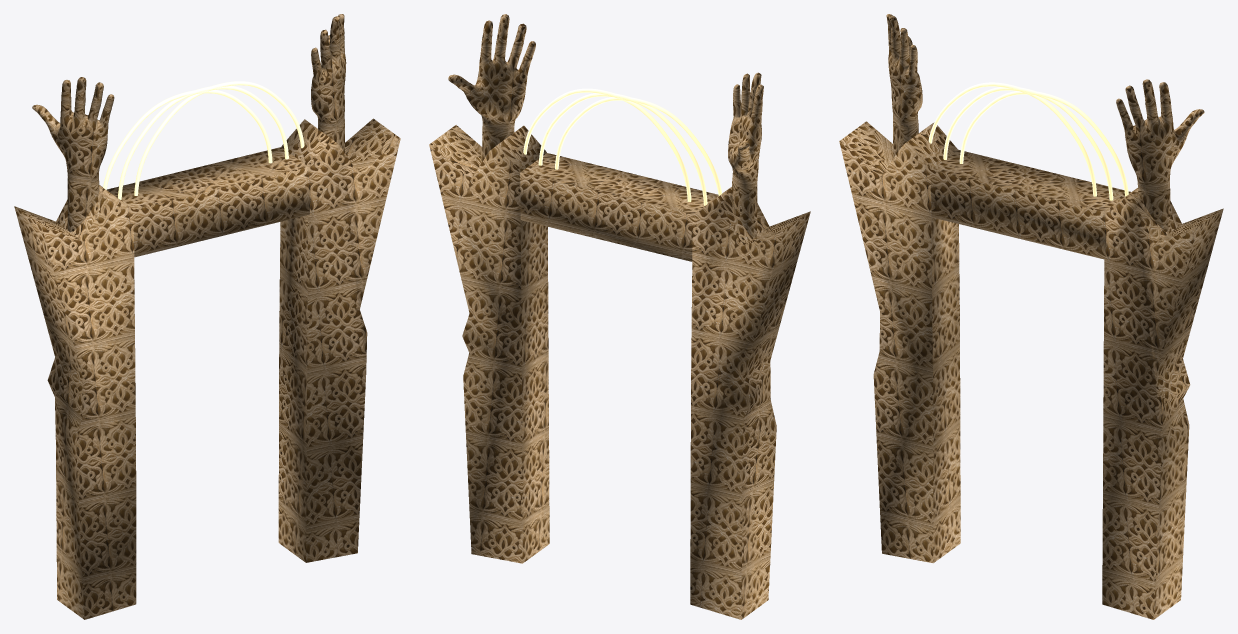
File: portal barcas_optimizado.glb
3 renders of one model, left to right at view 1: azimuth 30°, elevation 25°; view 2: azimuth 150°, elevation 25°; view 3: azimuth 330°, elevation 25°, orthographic.
Visible parts, largest first — view 1: BézierCircle; view 2: BézierCircle; view 3: BézierCircle.
Part boxes in pixels (x1,y1,x2,y2): BézierCircle: (14,14,400,619); BézierCircle: (429,14,810,619); BézierCircle: (839,14,1223,619).
Bounding box in the file's own units: 3.14 × 4.5 × 0.5894.
2 materials, 1 textured.
